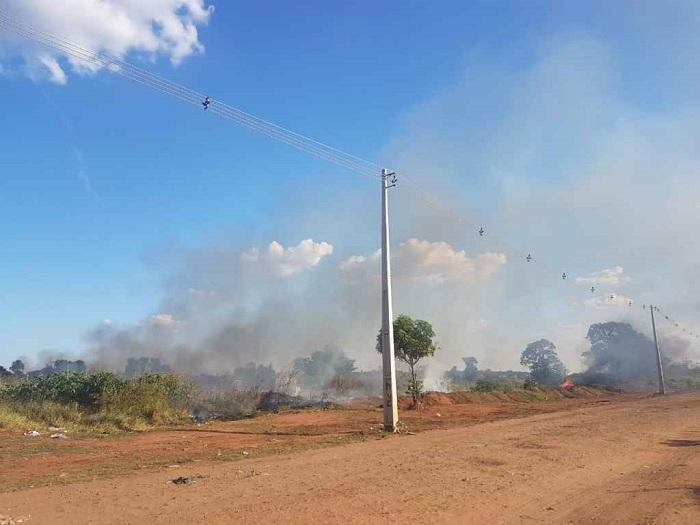smoke: (217, 304, 311, 387)
